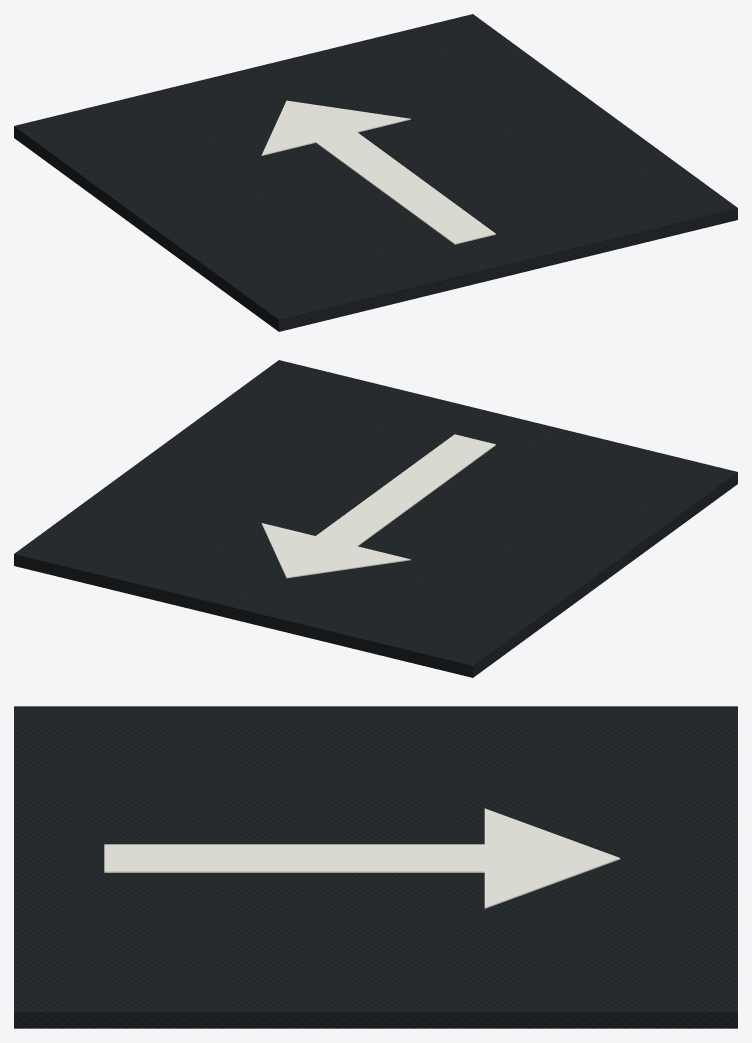
Rendered from OAA_Parking_Lane_Arrow_4m.fbx.
3 views of the same model, one above another, from view 1: azimuth 30°, elevation 25°; view 2: azimuth 150°, elevation 25°; view 3: azimuth 270°, elevation 25° (orthographic). The views are drawn at different scales.
Parts seen in each view (by area): view 1: Body; view 2: Body; view 3: Body.
Part boxes in pixels (x1,y1,x2,y2): Body: [14, 14, 737, 331]; Body: [14, 360, 737, 677]; Body: [14, 706, 737, 1028].
Bounding box in the file's own units: 4 × 0.108 × 4.
